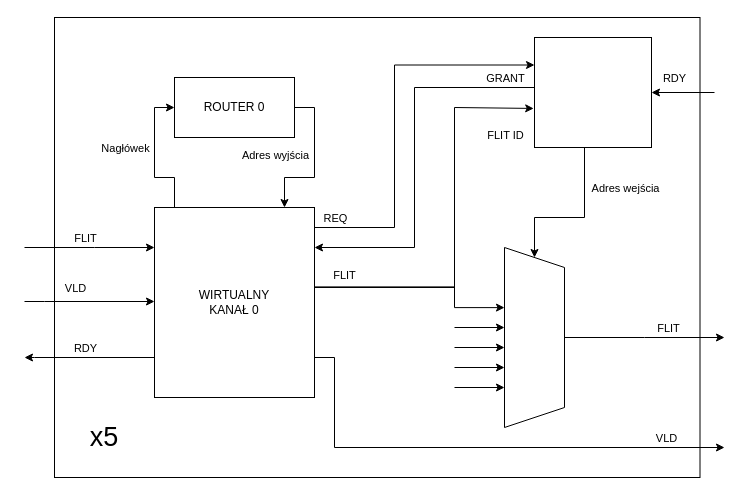
The diagram is 750 pixels wide and 495 high, and some of its shapes have lost their labels. Here are the shapes that lost their labels. From the top down, the box of each, then its label:
(534, 36, 652, 148): ALOKATOR 0
(504, 246, 564, 428): MUX 0
